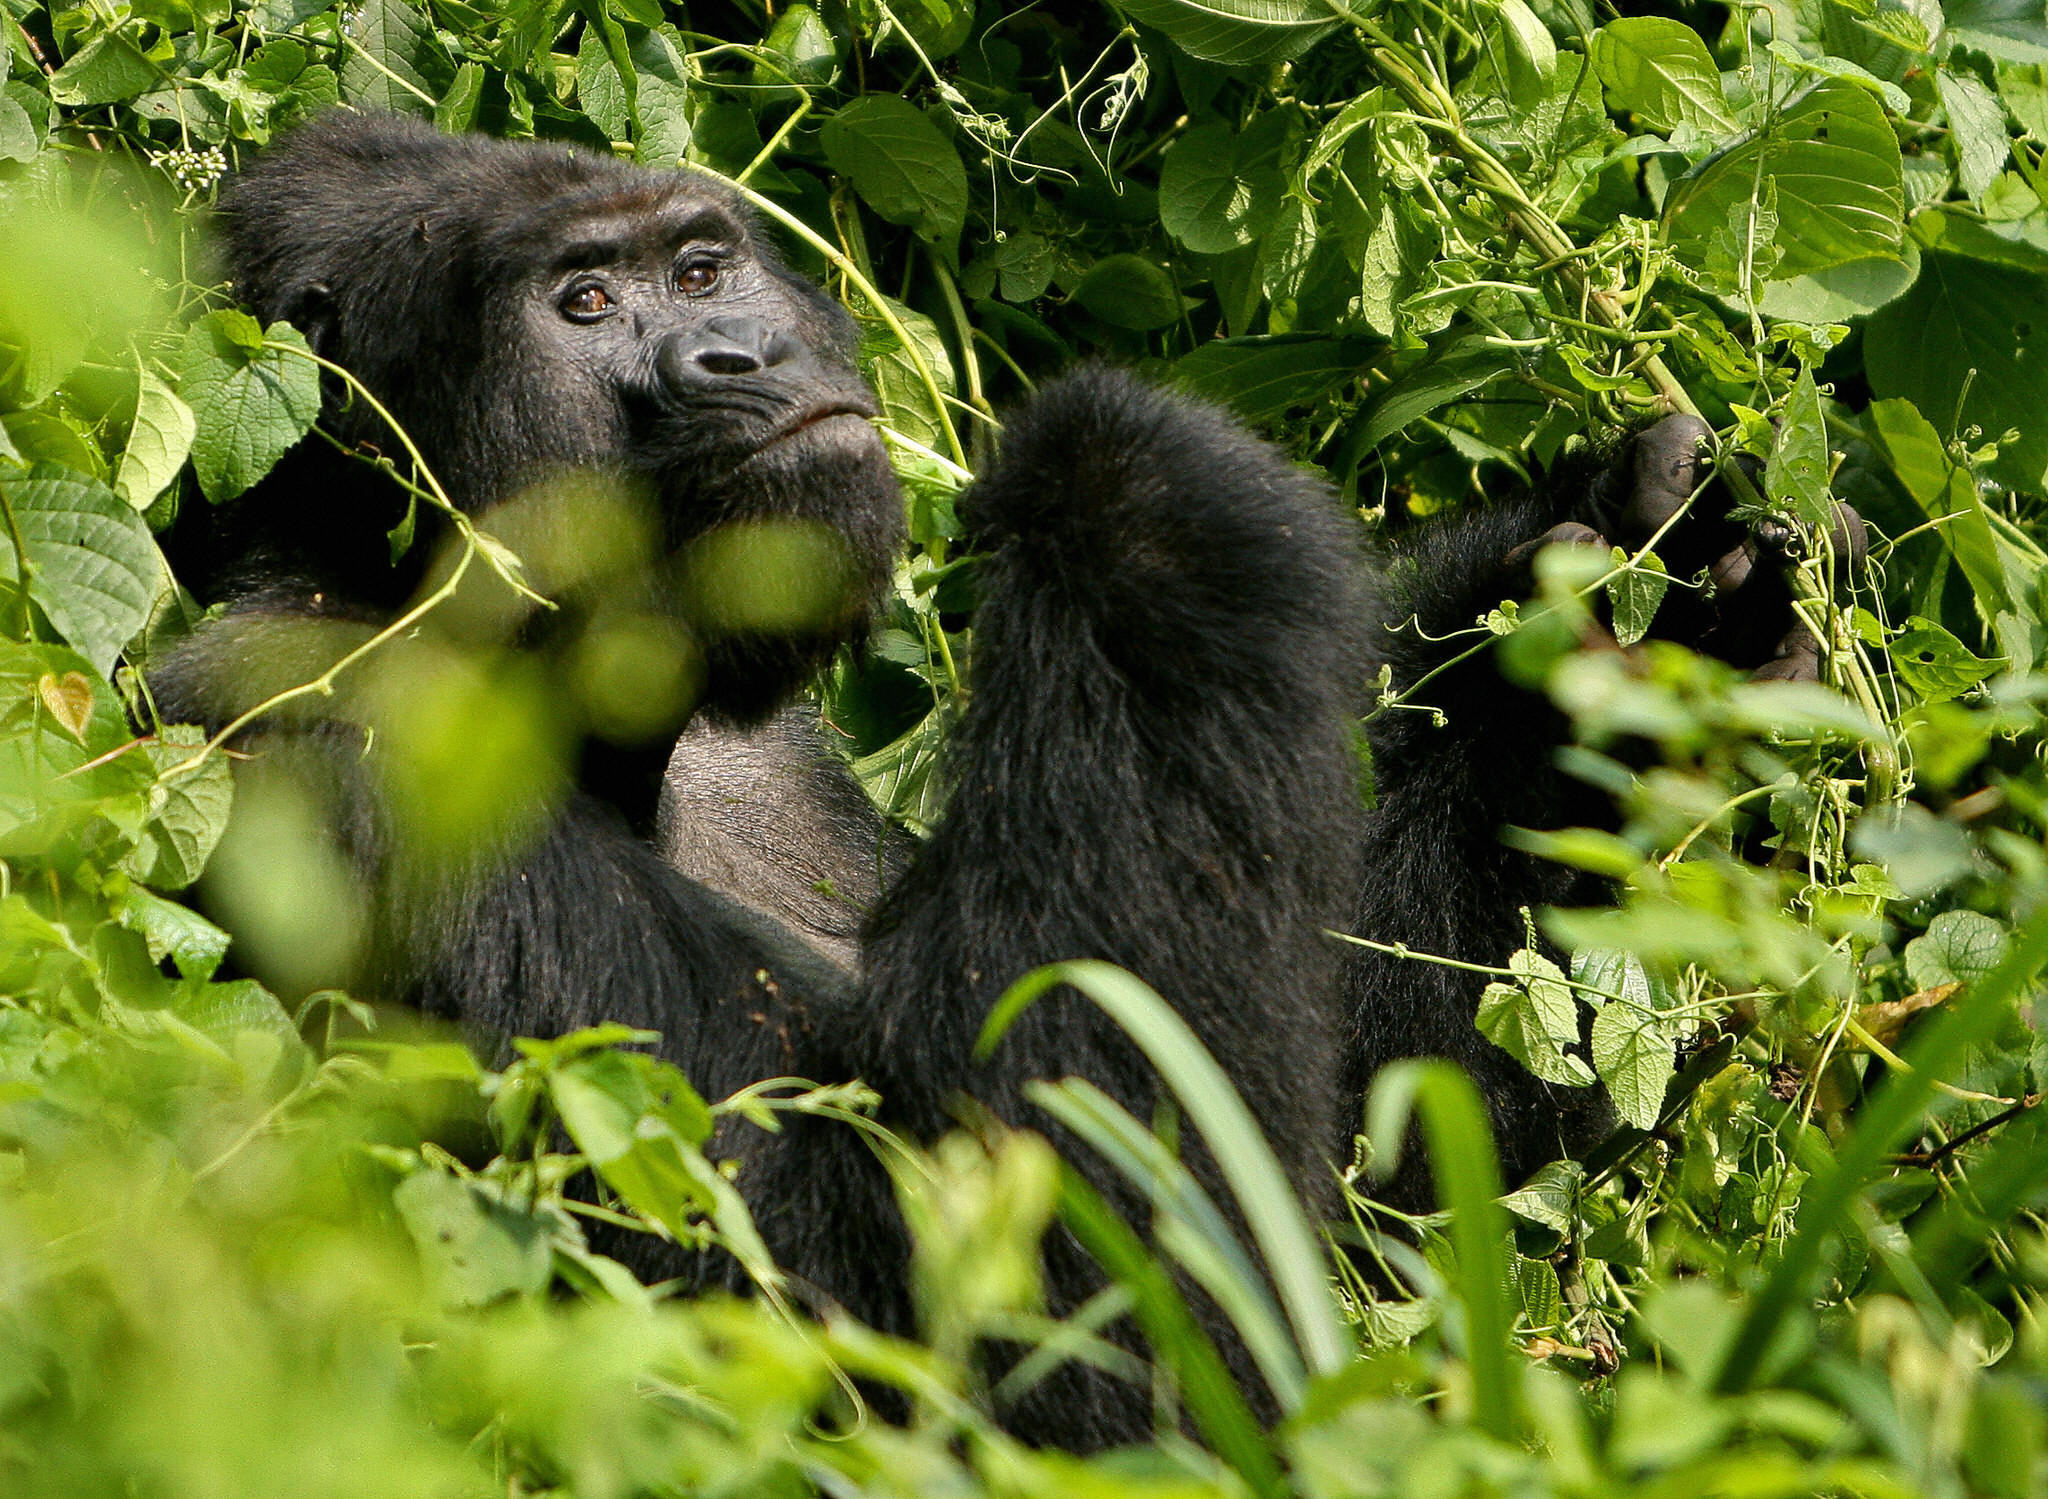Goriila: (149, 56, 1808, 1456)
